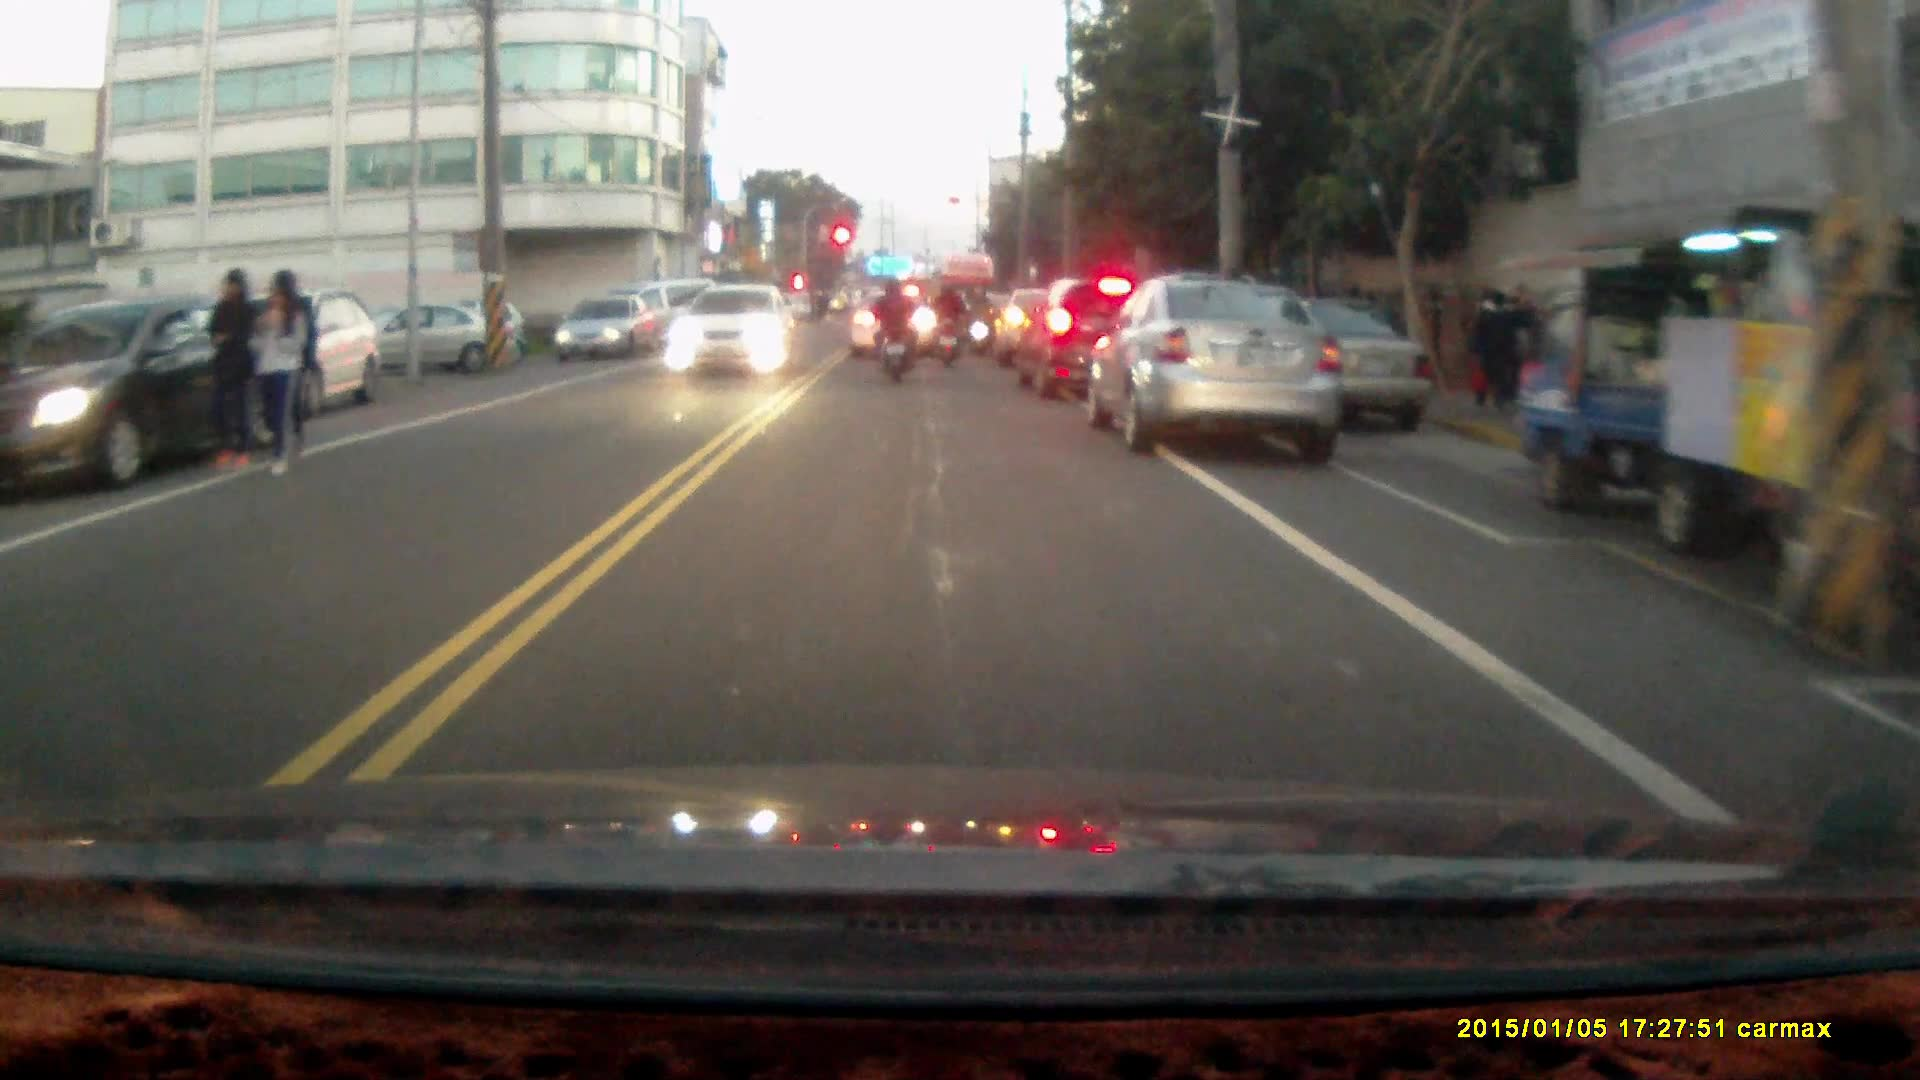pedestrian: (252, 268, 309, 478), (203, 266, 250, 477), (1502, 282, 1544, 411), (1473, 286, 1515, 415)
rider: (867, 277, 914, 385), (928, 275, 969, 365)
vehicle: (1502, 218, 1920, 549), (1, 297, 280, 500), (1097, 277, 1342, 458), (207, 290, 380, 427), (1022, 279, 1173, 404), (664, 284, 793, 379), (552, 294, 650, 363), (851, 293, 941, 362)
